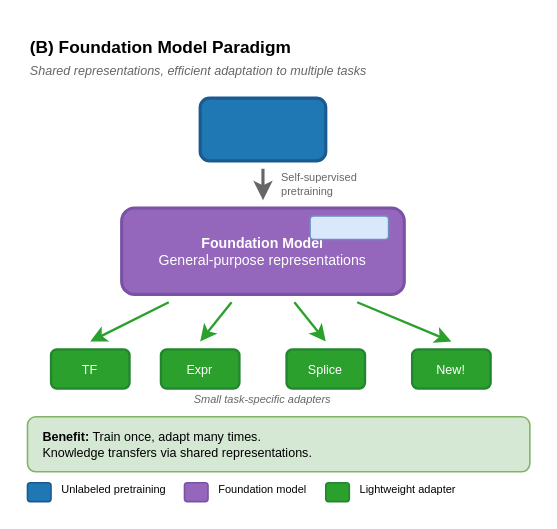
Some shapes in this 557 by 529 pixel diagram are drawn without their labels. The centre of each missing label's shape, as x and y in pixels:
"Billions of Unlabeled Sequences" goes at point (262, 129).
"❄ FROZEN" goes at point (349, 226).
